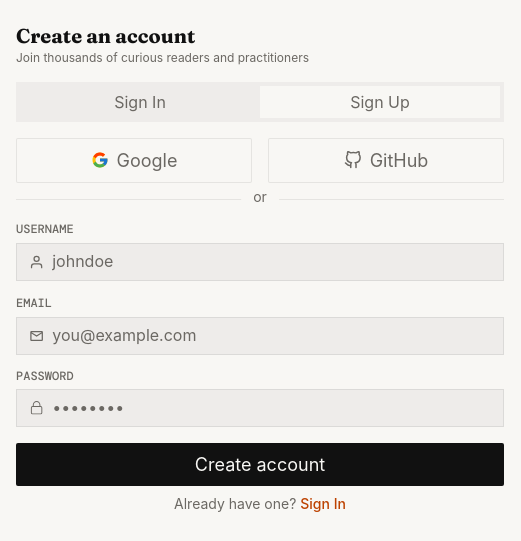
Test case: RegisterForm component › Form Validation › should display validation error when email format is invalid
The width and height of the screenshot is (521, 541).
Type "validUser" into the field labelled "USERNAME".
click(272, 262); type("validUser")  # box x1=52 y1=252 x2=491 y2=272
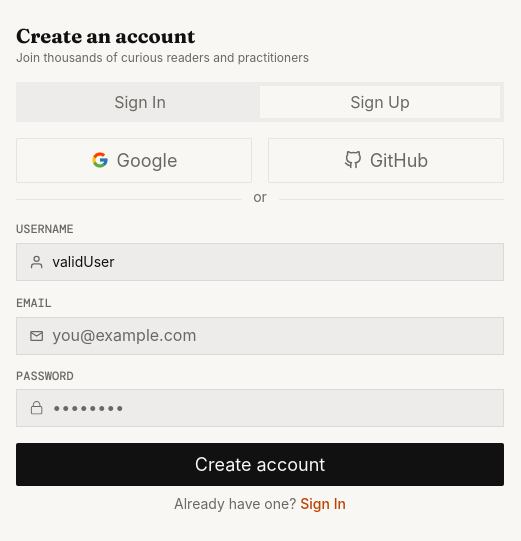
Type "invalid@domain" into the field labelled "EMAIL".
click(272, 336); type("invalid@domain")  # box x1=52 y1=326 x2=491 y2=346
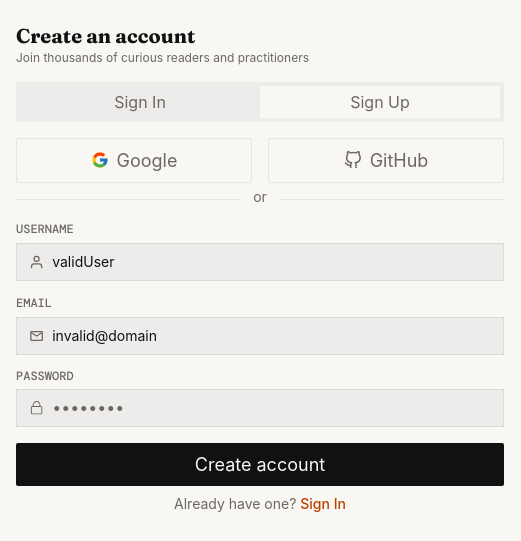
Type "validPassword123" into the password field labelled "PASSWORD".
click(272, 408); type("validPassword123")  # box x1=52 y1=398 x2=491 y2=418
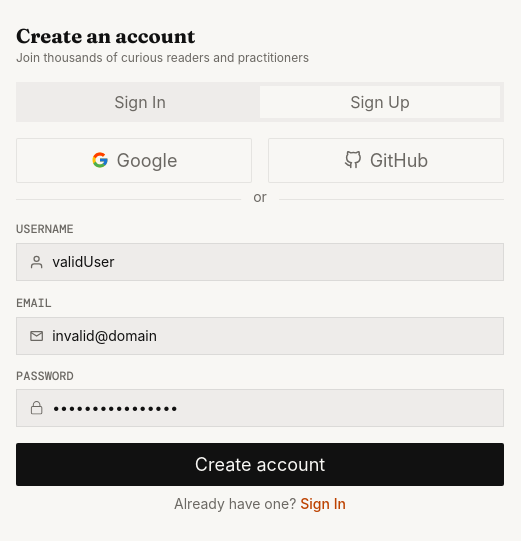
Click the button "Create account".
click(260, 465)  # box x1=16 y1=443 x2=504 y2=486
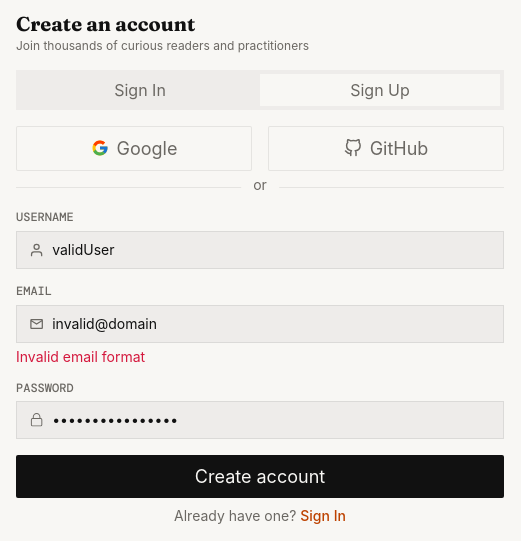
Expected: the text "Invalid email format" is shown, x1=16 y1=348 x2=145 y2=365
